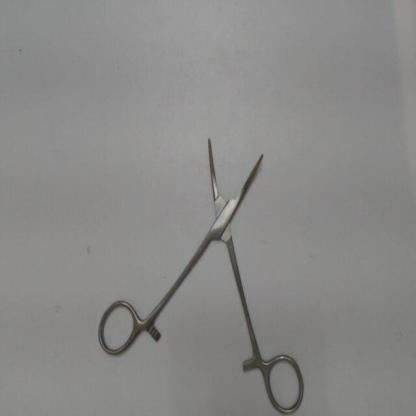Crile Artery Forceps: (92, 132, 311, 413)
